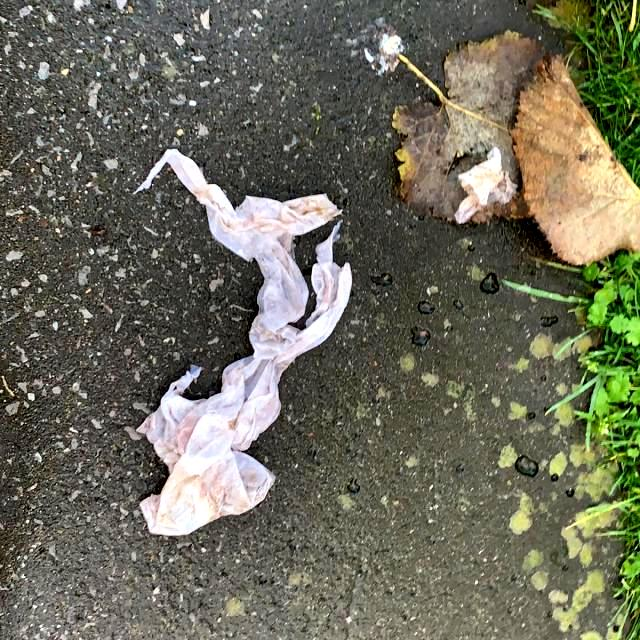Paper: (130, 145, 354, 540), (454, 145, 518, 225)
